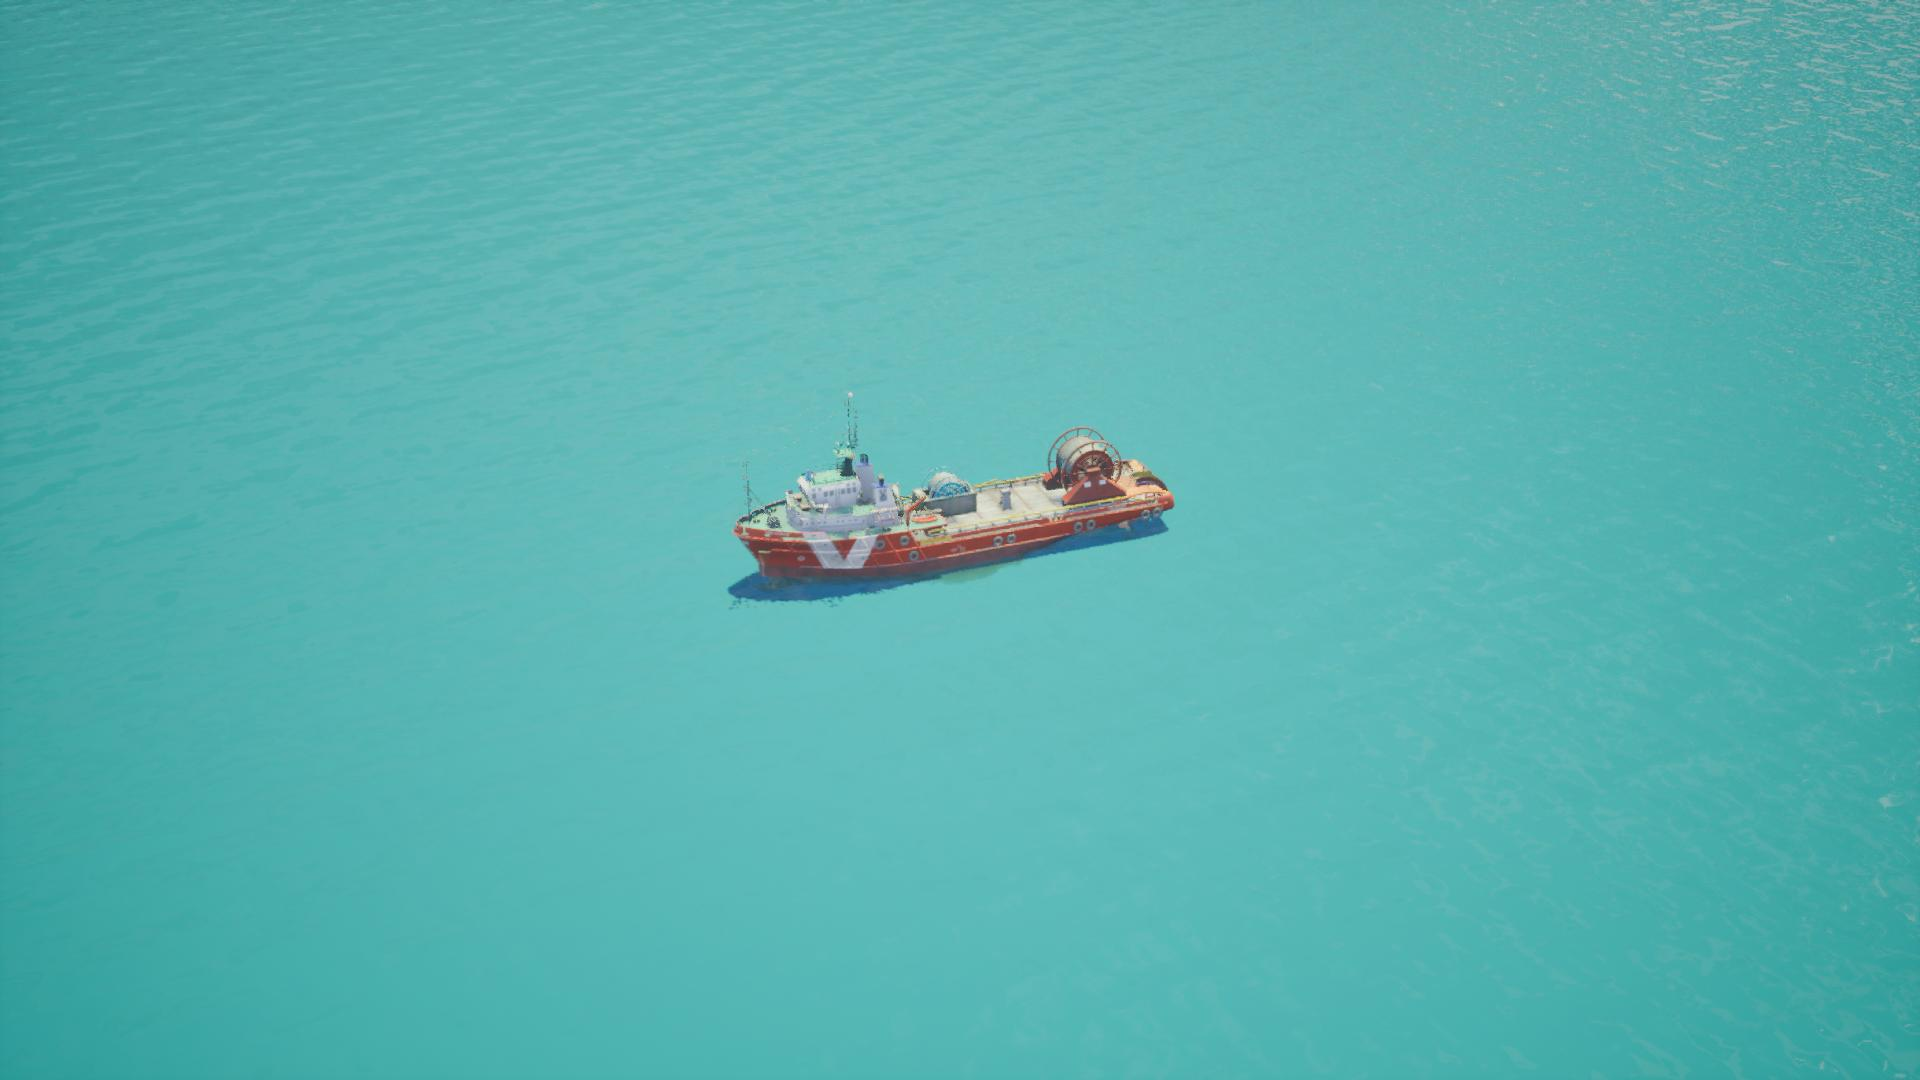Tug Boat: (731, 394, 1174, 603), (777, 425, 1121, 554)
